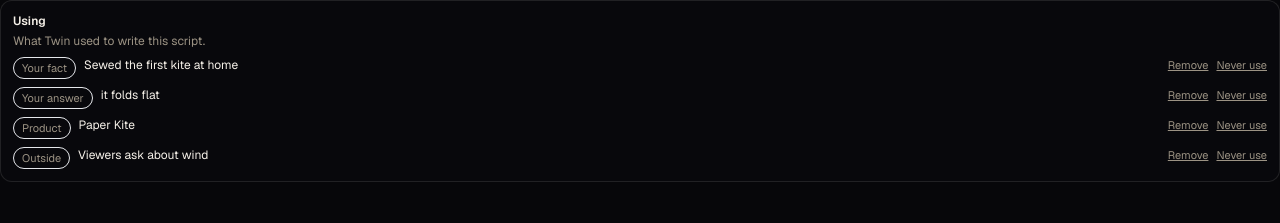
Test: UsingList › a failed save says so
Click the button "Never use" in the row of "Your fact" at (1242, 65), box [1216,57,1267,73]
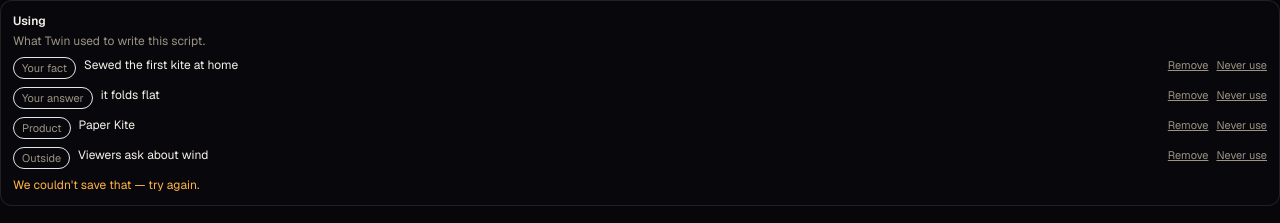
Expected: the message "We couldn't save that — try again." is shown, [13,177,199,193]
